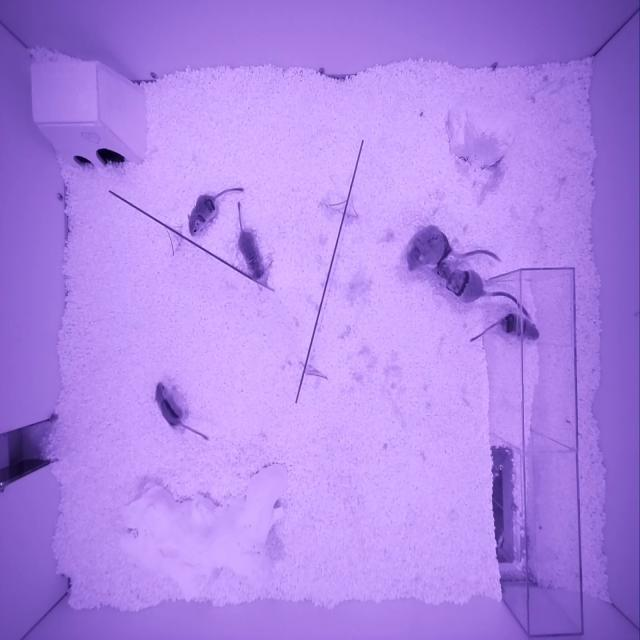adult_back: (406, 225, 452, 271)
adult_front: (436, 263, 483, 303)
pup_fluffy: (236, 230, 266, 281)
pup_h_stripe: (501, 314, 539, 340)
pup_spotted: (187, 195, 217, 236)
pup_v_stripe: (154, 382, 182, 426)
